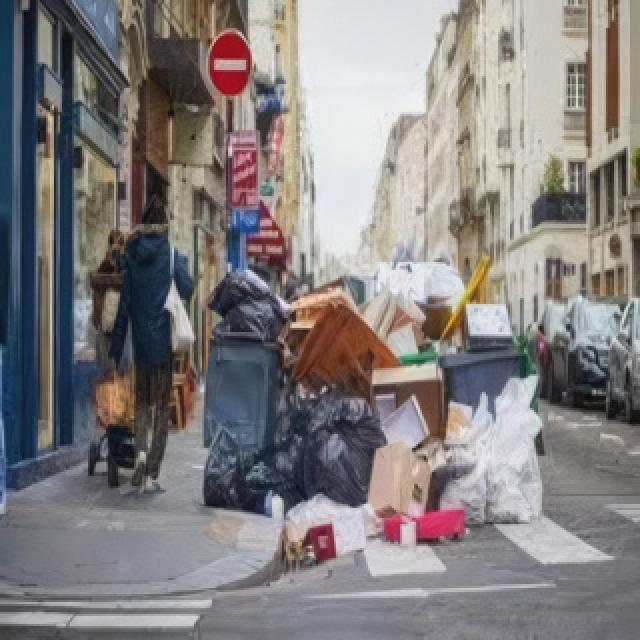high trash: (205, 262, 541, 571)
